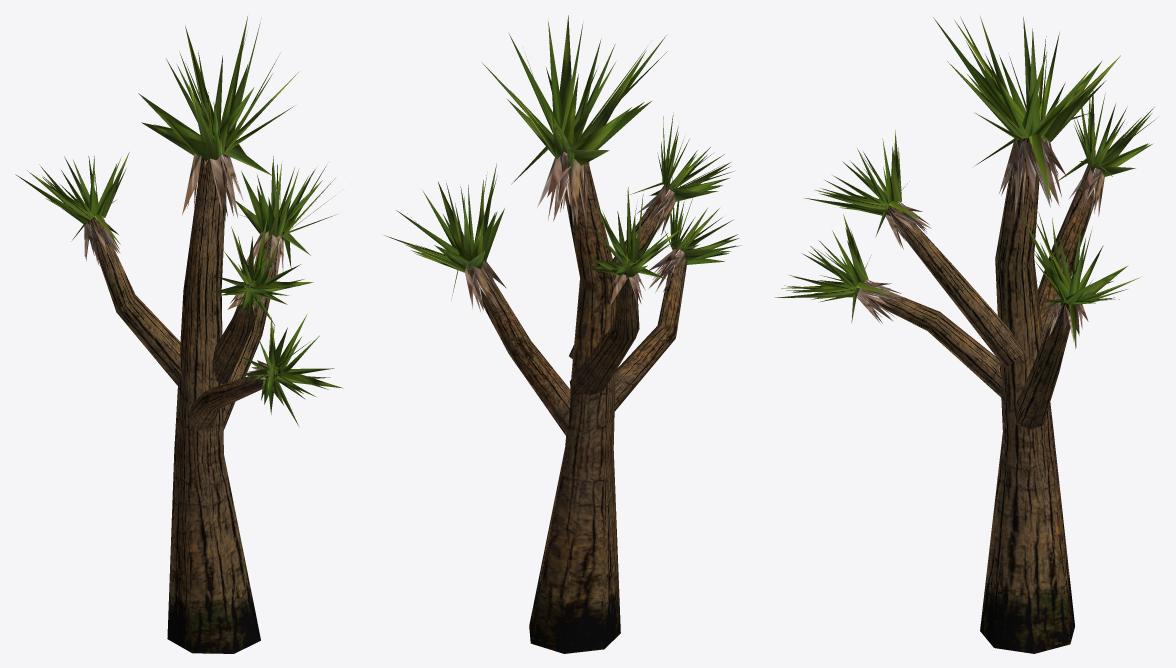
The model's file is joshuatree3.dae.
The picture shows the model from 3 angles, left to right: view 1: azimuth 30°, elevation 25°; view 2: azimuth 150°, elevation 25°; view 3: azimuth 270°, elevation 25°; orthographic projection. The views are drawn at different scales.
Visible parts, largest first — view 1: Circle; view 2: Circle; view 3: Circle.
Boxes of the visible parts, x1=… form: Circle: x1=15, y1=16, x2=342, y2=653; Circle: x1=384, y1=15, x2=740, y2=653; Circle: x1=775, y1=16, x2=1156, y2=653.
Size of the model in its own units: 2.58 by 2.94 by 5.1.
Materials: 1 (1 with a texture image).
